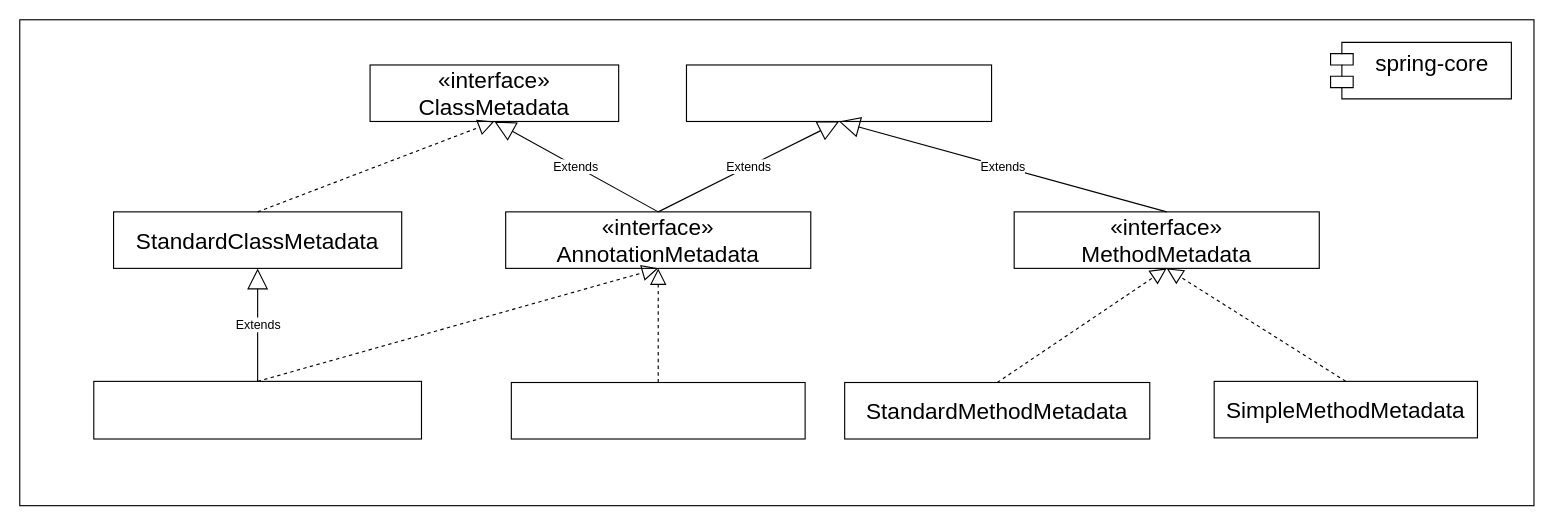
This 1554x525 diagram has some shape labels left out. The centre of each missing label's shape, as x and y in pixels:
"SimpleAnnotationMetadata" belongs at (x=657, y=410).
"StandardAnnotationMetadata" belongs at (x=257, y=409).
"«interface» AnnotatedTypeMetadata" belongs at (x=838, y=92).
